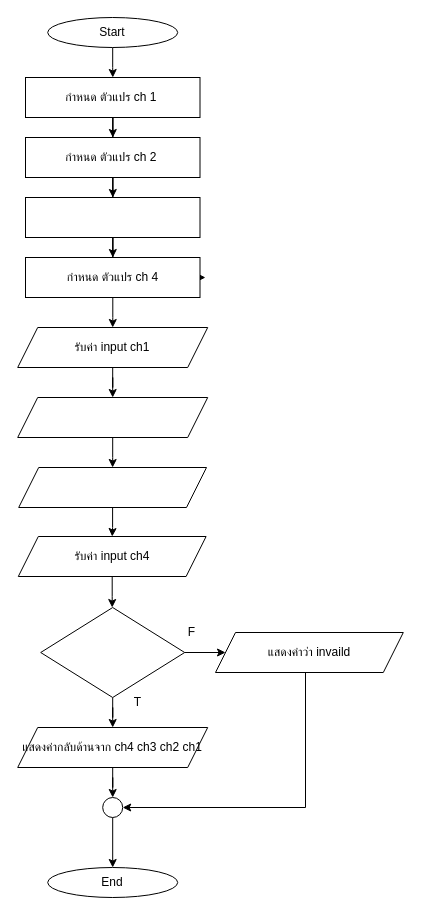
This 421x915 diagram has some shape labels left out. The shapes that lost their labels are listed below. From the top down, each one's centre as x and y in pixels, then its label:
the point at 112,217: กำหนด ตัวแปร ch 3
the point at 112,417: รับค่า input ch2
the point at 112,487: รับค่า input ch3
the point at 112,652: ตรวจสอบว่าค่าตัวแปรแต่ละตัวมีค่าหรือไม่
